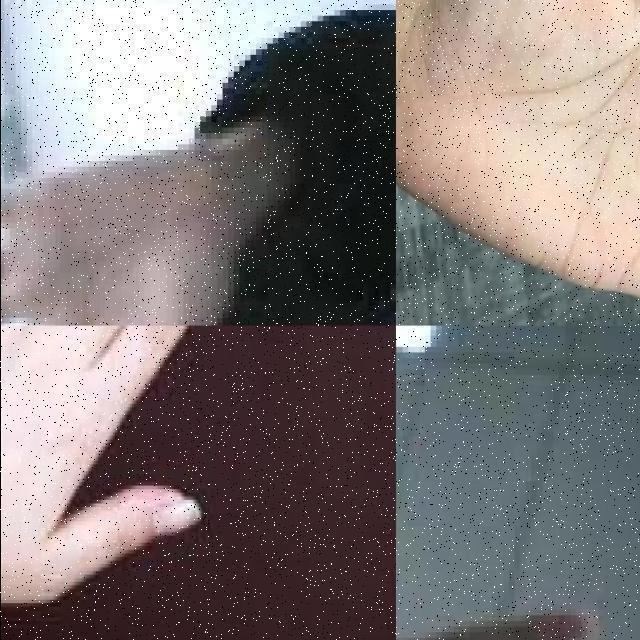hand: (0, 325, 258, 640), (395, 0, 640, 326), (0, 138, 239, 325), (395, 475, 620, 640)
